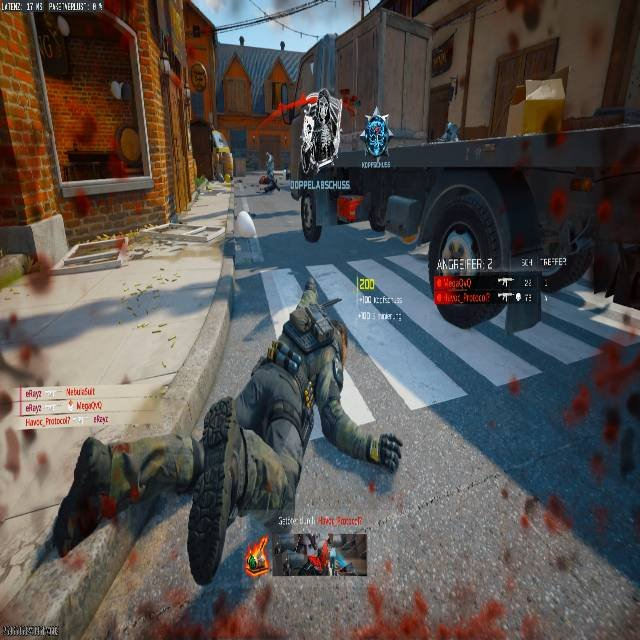player: (417, 0, 571, 280), (363, 113, 388, 159), (377, 432, 402, 472)
